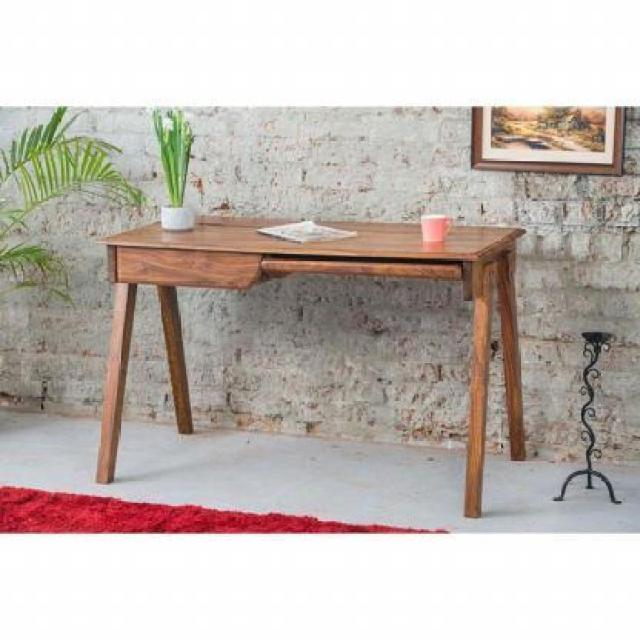tables: (92, 216, 528, 518)
